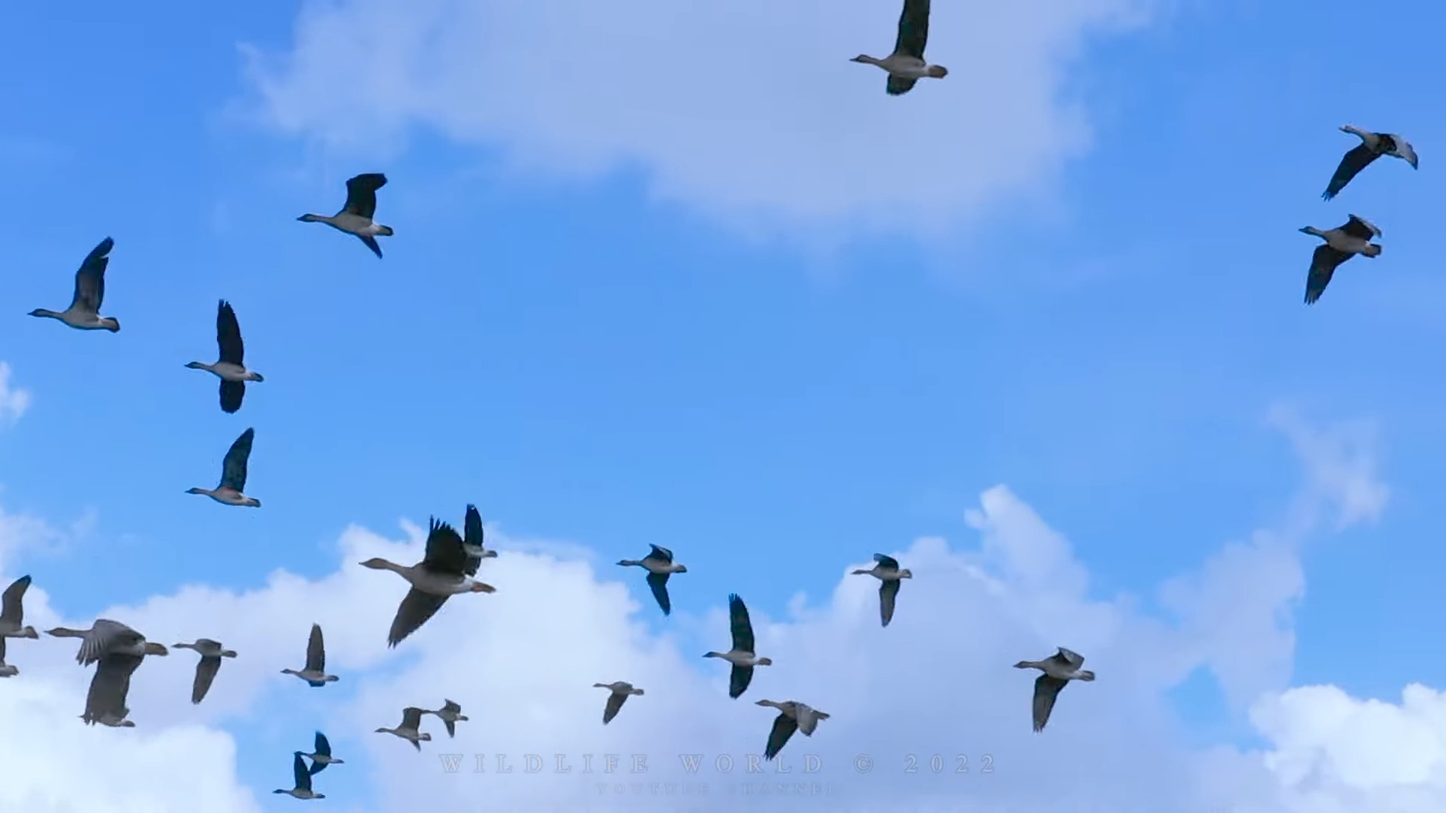not_drone: (351, 518, 495, 651), (47, 612, 170, 733), (179, 292, 268, 413), (1290, 209, 1394, 312), (27, 232, 126, 340), (850, 6, 957, 104), (292, 166, 396, 262), (1311, 117, 1424, 202), (1011, 646, 1097, 744), (185, 422, 266, 515), (705, 591, 772, 702), (612, 542, 695, 621), (756, 688, 831, 773), (175, 627, 244, 714), (848, 552, 918, 631), (277, 621, 343, 690), (590, 670, 649, 727), (268, 757, 328, 810), (4, 563, 39, 649), (300, 723, 350, 777), (384, 708, 436, 752), (430, 699, 474, 741)
